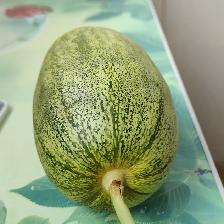gua: (46, 28, 156, 205)
